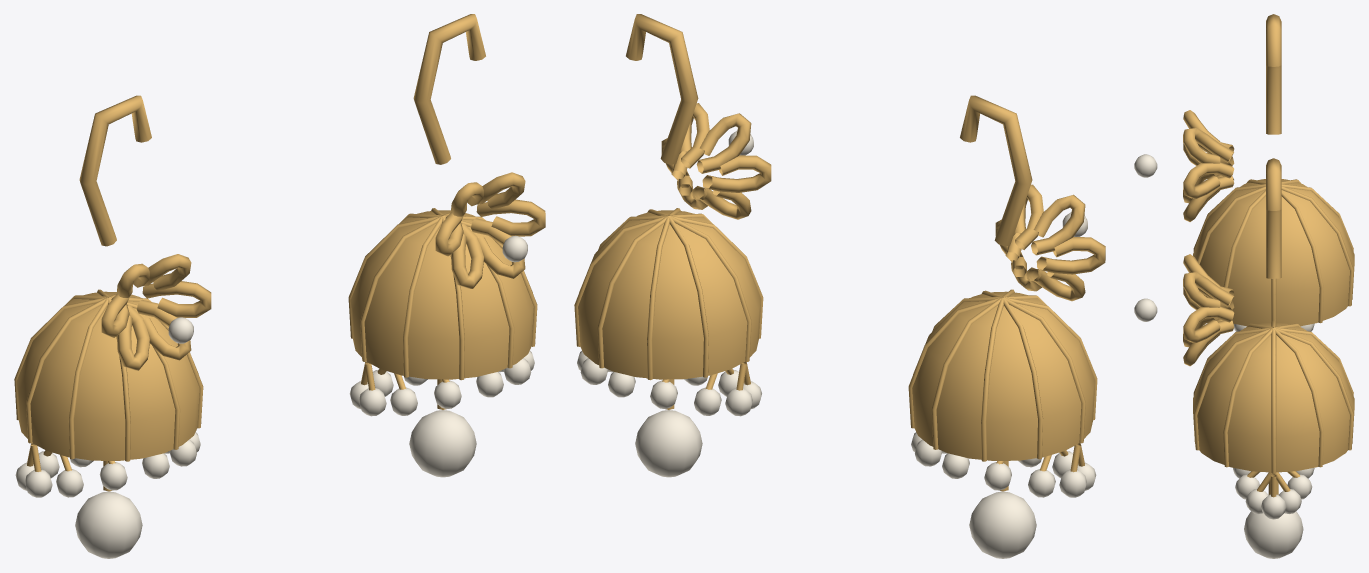
The model's file is jhumka.glb.
The picture shows the model from 3 angles, left to right: view 1: azimuth 30°, elevation 25°; view 2: azimuth 150°, elevation 25°; view 3: azimuth 270°, elevation 25°; orthographic projection. The views are drawn at different scales.
Visible parts, largest first — view 1: jhumka; view 2: jhumka; view 3: jhumka.
Boxes of the visible parts, x1=… form: jhumka: x1=14, y1=14, x2=545, y2=558; jhumka: x1=574, y1=14, x2=1105, y2=558; jhumka: x1=1134, y1=14, x2=1354, y2=558.
Size of the model in its own units: 0.0735 by 0.0621 by 0.031.
